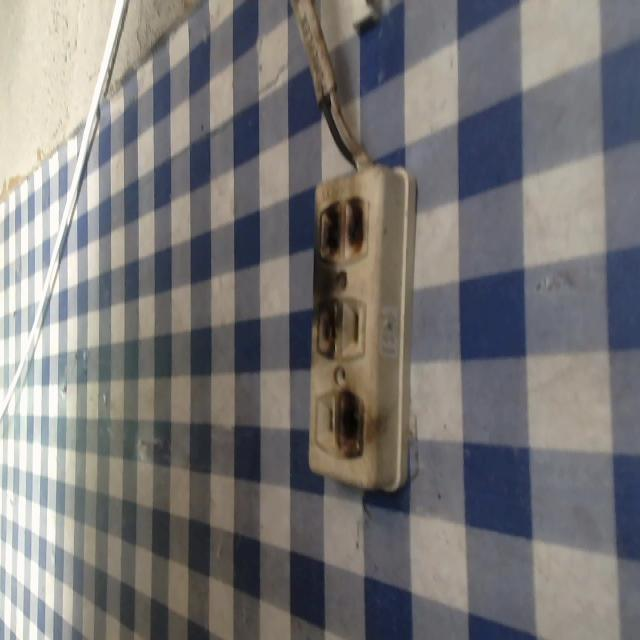-: (308, 196, 380, 260), (309, 291, 346, 364), (331, 385, 367, 460)
